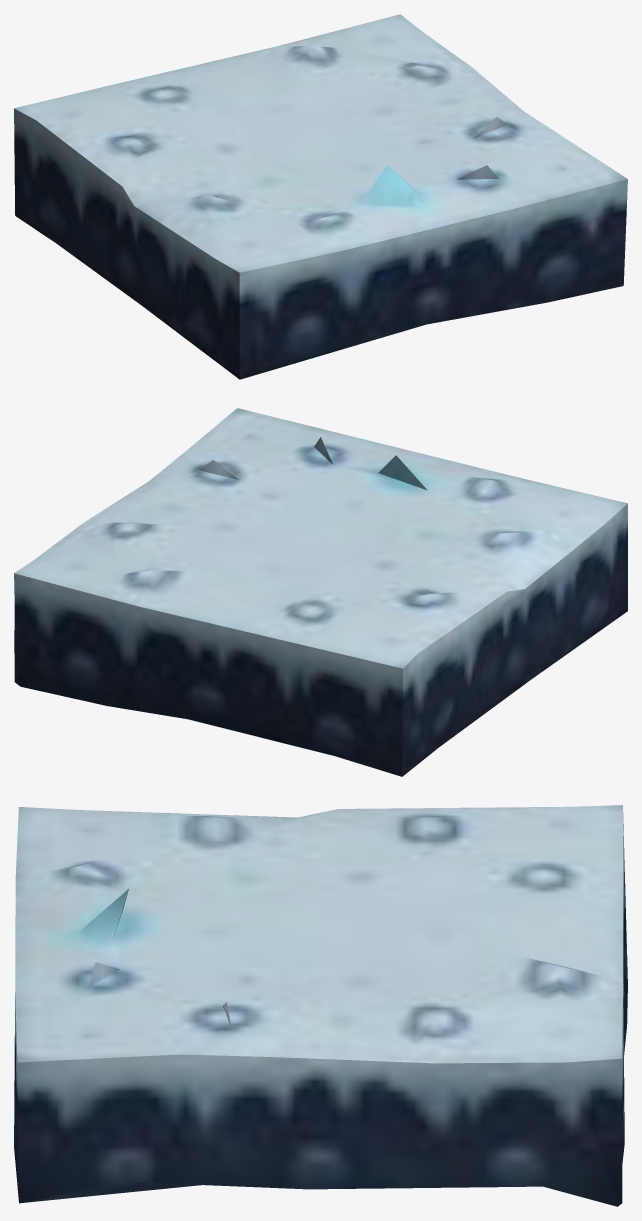
File: b_givre_sol_1_lod1.glb
3 renders of one model, top to bottom at view 1: azimuth 30°, elevation 25°; view 2: azimuth 150°, elevation 25°; view 3: azimuth 270°, elevation 25°, orthographic. The views are drawn at different scales.
Parts seen in each view (by area): view 1: geometry_0; view 2: geometry_0; view 3: geometry_0.
Boxes of the visible parts, x1=… form: geometry_0: x1=14, y1=14, x2=627, y2=379; geometry_0: x1=14, y1=408, x2=627, y2=776; geometry_0: x1=14, y1=805, x2=627, y2=1206.
Size of the model in its own units: 1 by 0.3472 by 1.
Materials: 1 (1 with a texture image).
